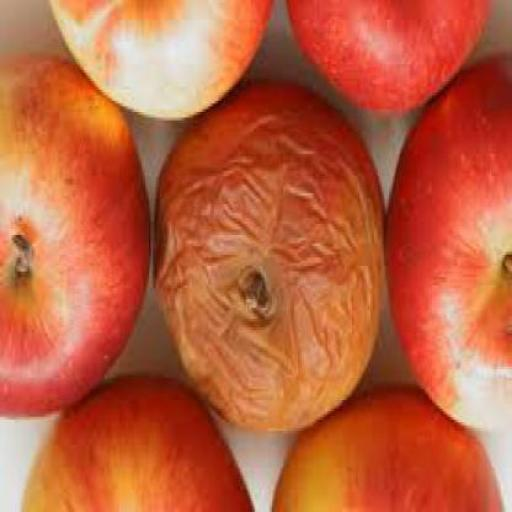biodegradable: (151, 82, 383, 436), (0, 56, 149, 423), (385, 62, 511, 436), (16, 380, 254, 511), (45, 3, 271, 129), (267, 394, 505, 511), (283, 3, 486, 123)
